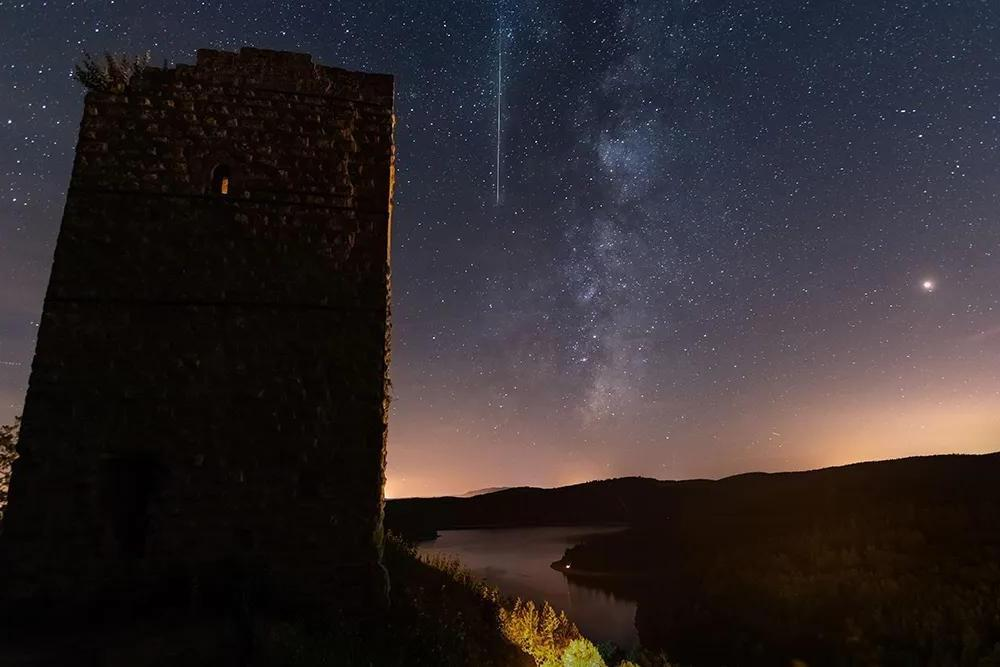meteorite: (483, 18, 517, 222)
